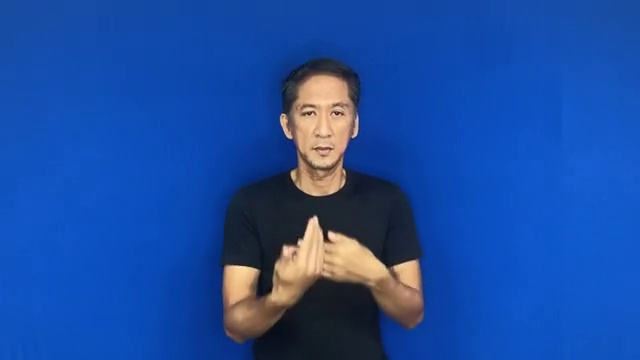bread: (267, 207, 387, 314)
